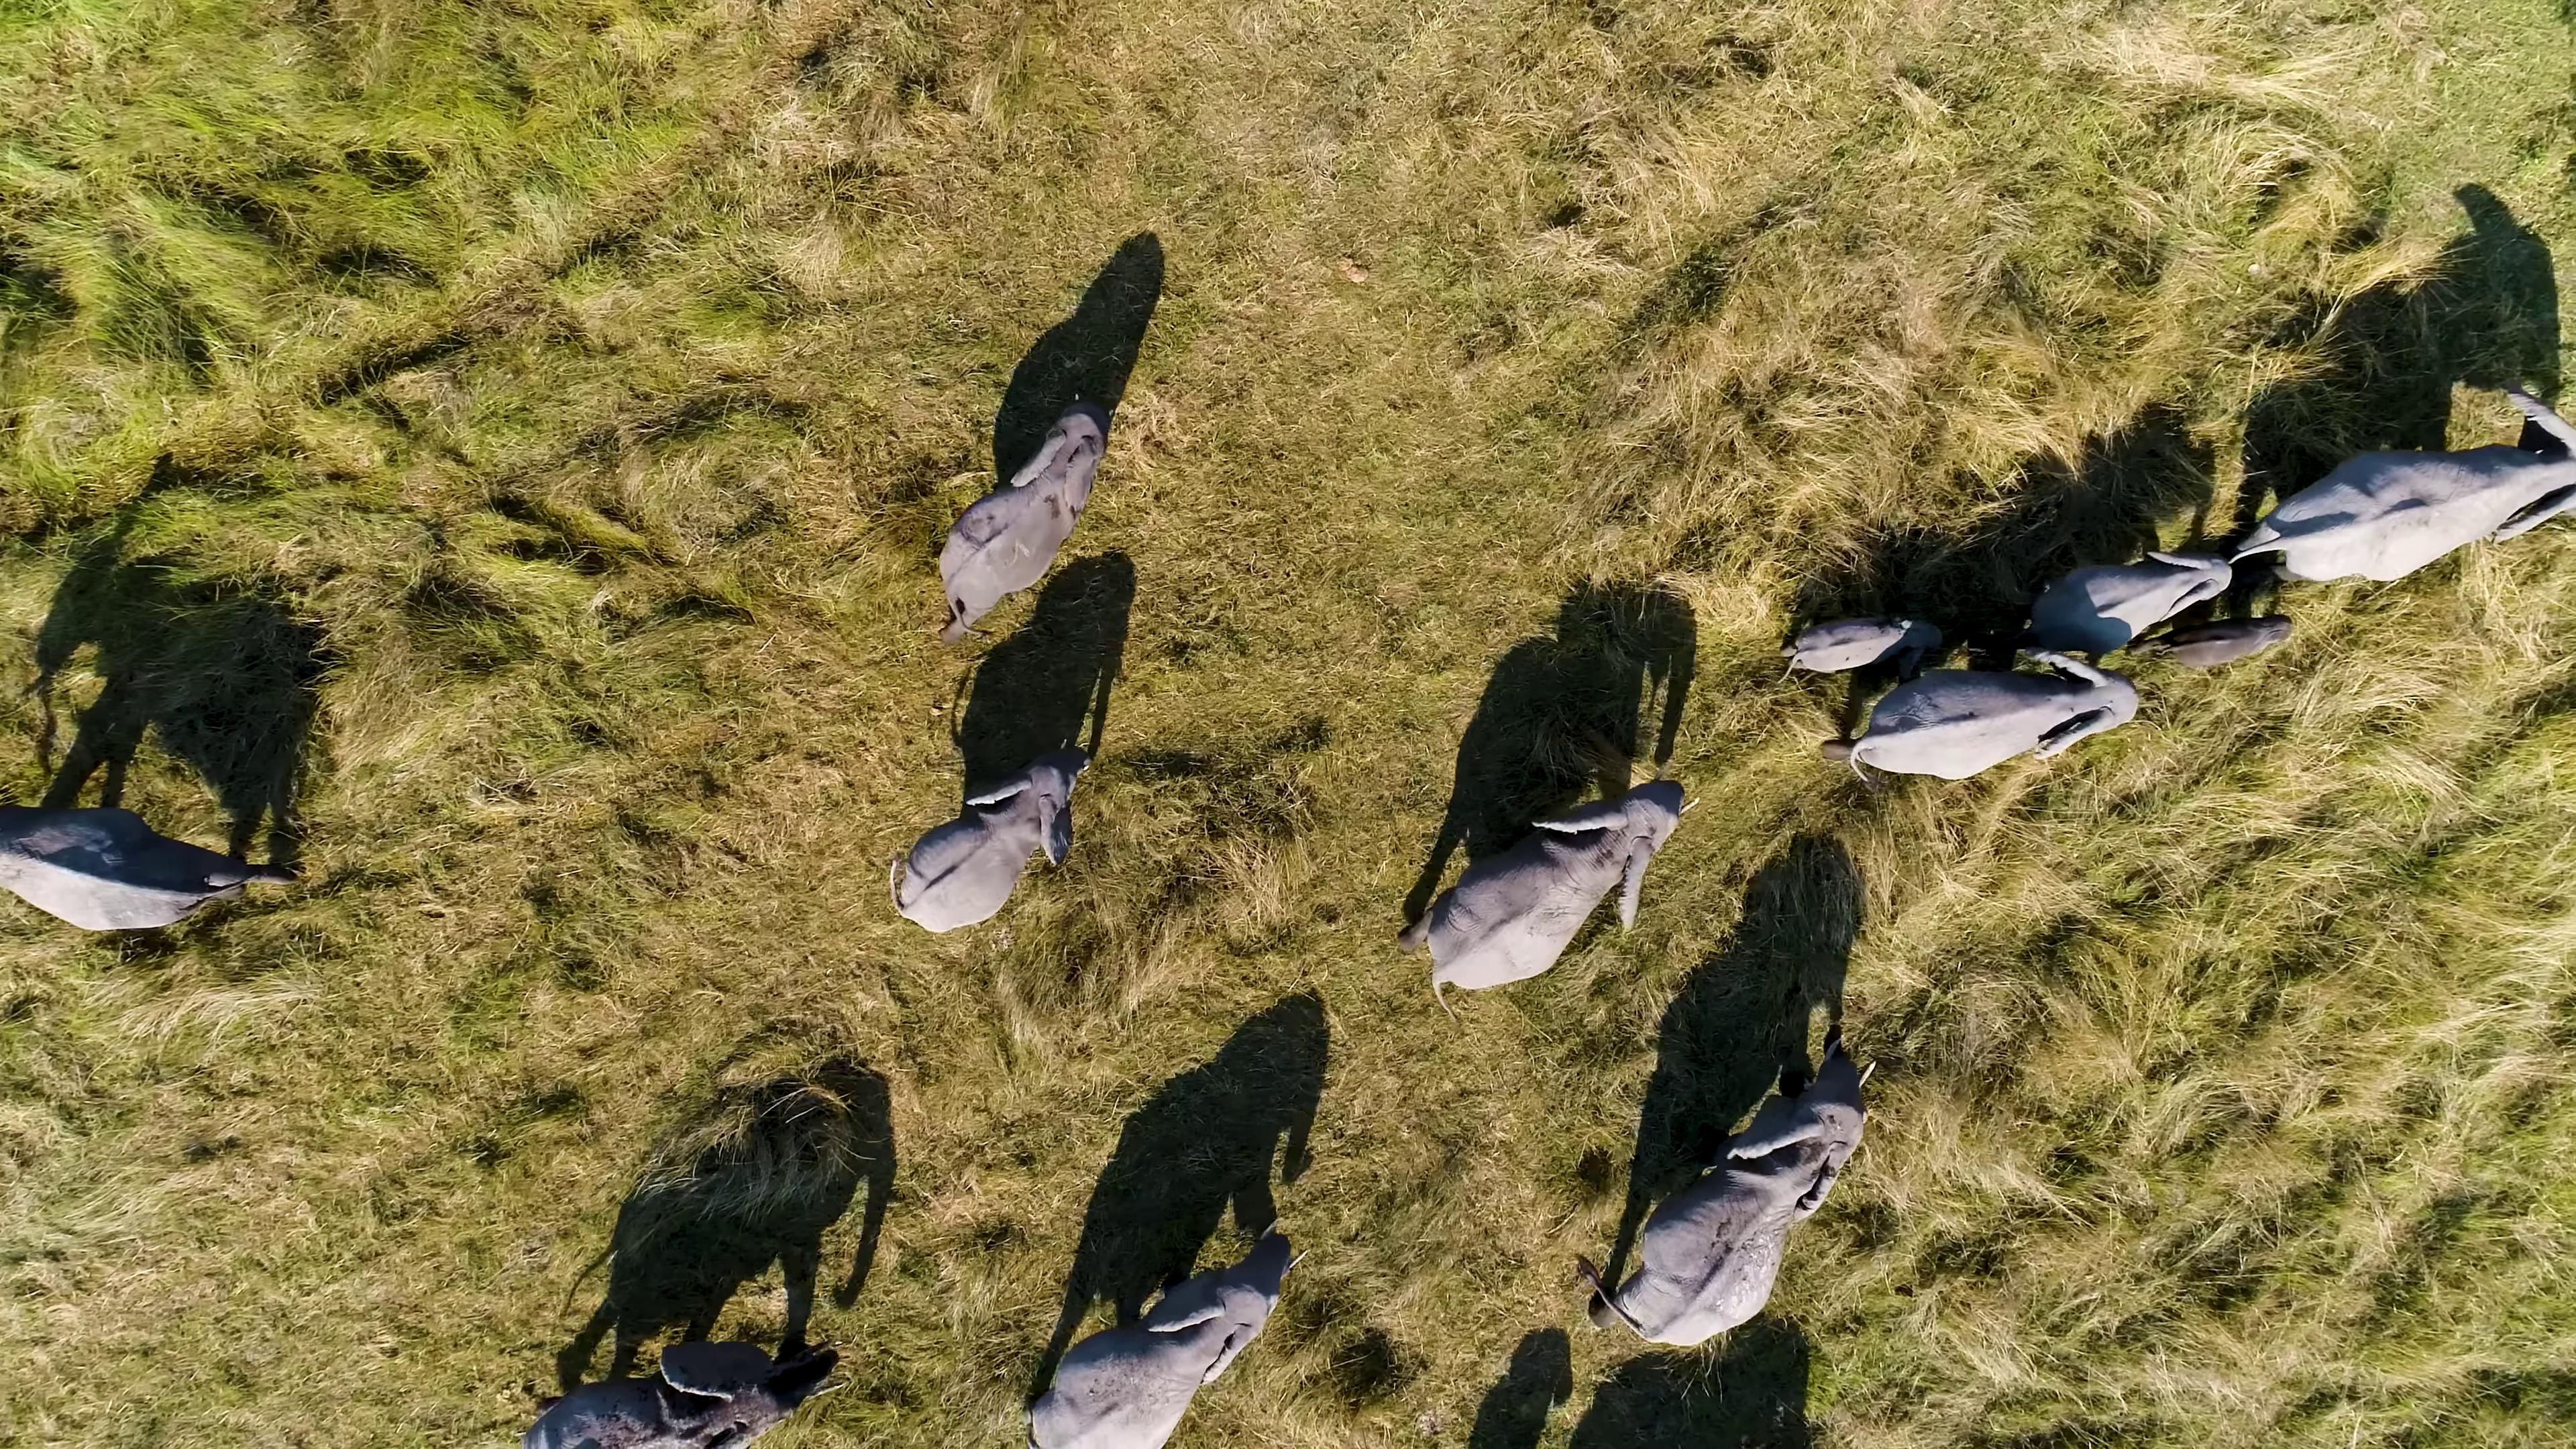elephant: (1596, 994, 1932, 1369), (2235, 373, 2576, 621), (1019, 1201, 1332, 1449), (1410, 763, 1714, 991), (881, 722, 1108, 948), (927, 389, 1118, 653), (0, 791, 294, 959), (1835, 655, 2153, 782), (522, 1332, 846, 1449), (2017, 538, 2236, 658), (1762, 591, 1964, 695)
